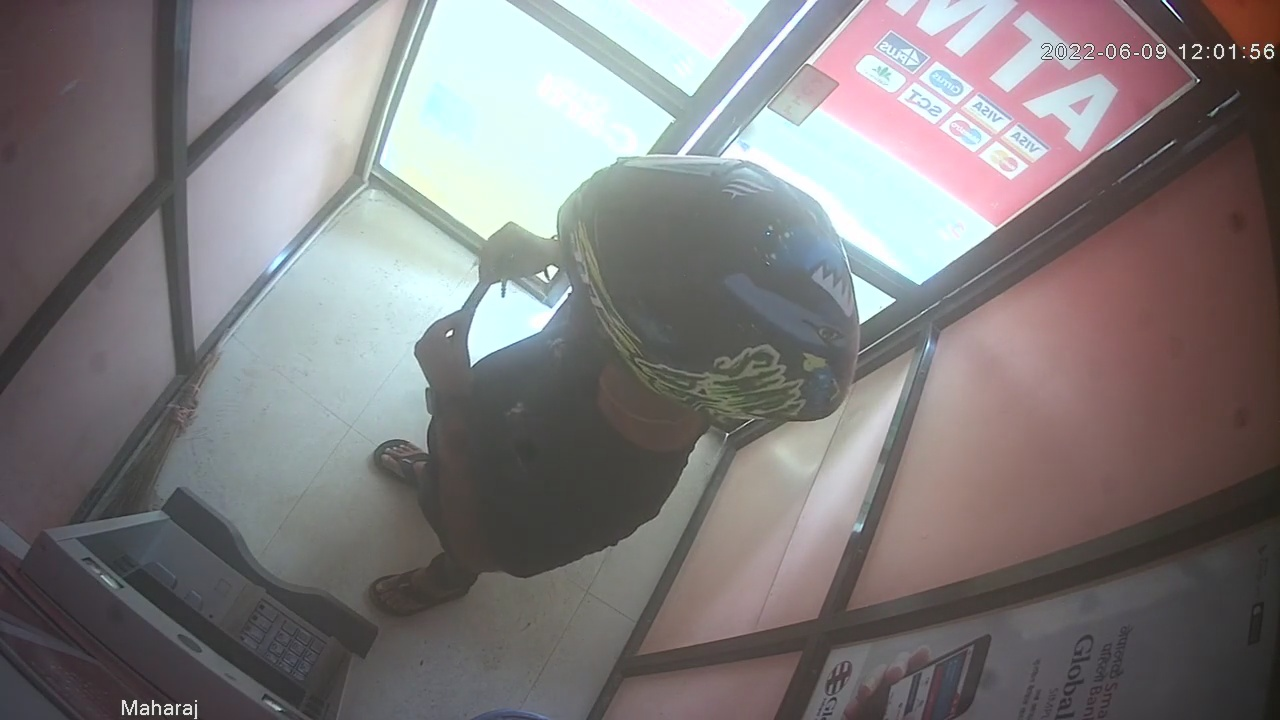helmet: (554, 151, 861, 423)
person: (365, 152, 861, 620)
